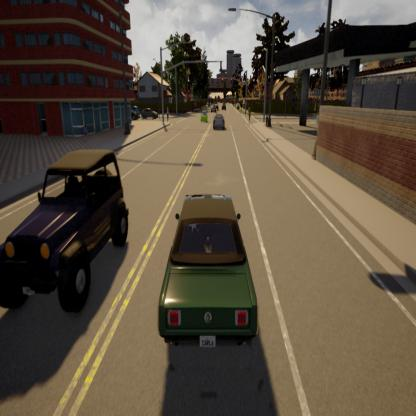Cars: (0, 126, 134, 329), (144, 185, 268, 366), (213, 109, 225, 138), (141, 105, 159, 121), (199, 109, 208, 125)
